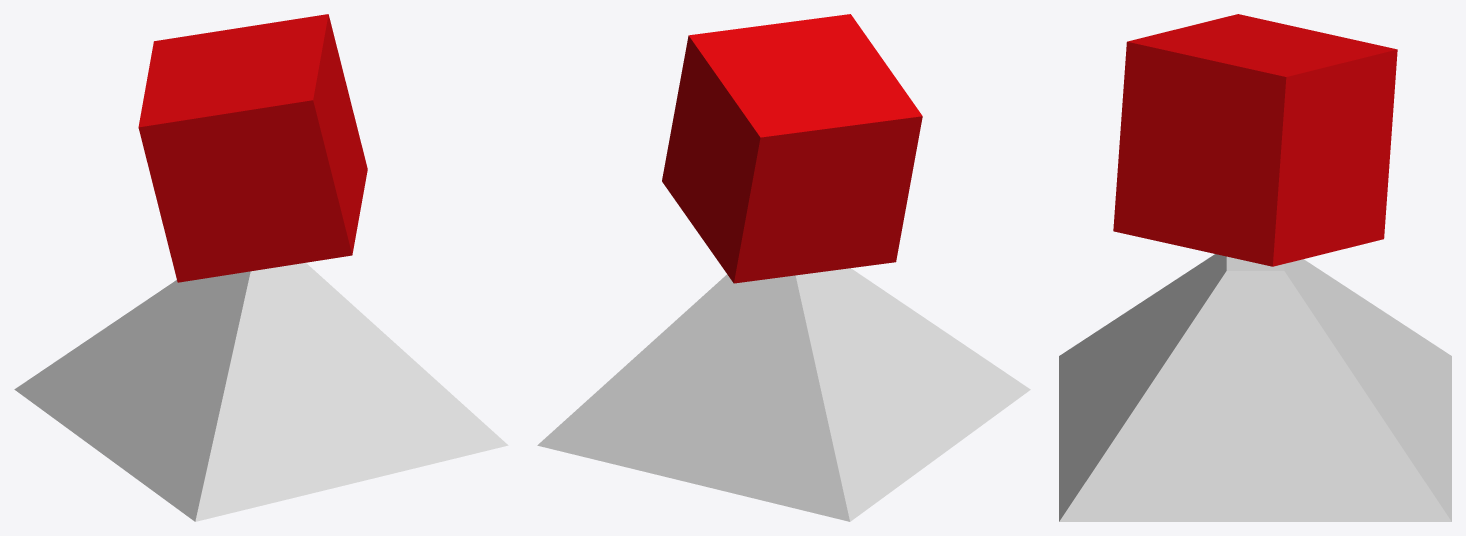
Rendered from cuber.fbx.
The picture shows the model from 3 angles, left to right: view 1: azimuth 30°, elevation 25°; view 2: azimuth 150°, elevation 25°; view 3: azimuth 270°, elevation 25°; orthographic projection. The views are drawn at different scales.
Parts seen in each view (by area): view 1: Cube, Cube.001; view 2: Cube, Cube.001; view 3: Cube, Cube.001.
Part boxes in pixels (box(x1,y1,x2,y2)): Cube: box(14, 262, 508, 521); Cube.001: box(138, 14, 367, 282); Cube: box(537, 268, 1030, 521); Cube.001: box(662, 14, 922, 283); Cube: box(1059, 254, 1451, 521); Cube.001: box(1113, 14, 1397, 266).
Size of the model in its own units: 200 by 228 by 200.
